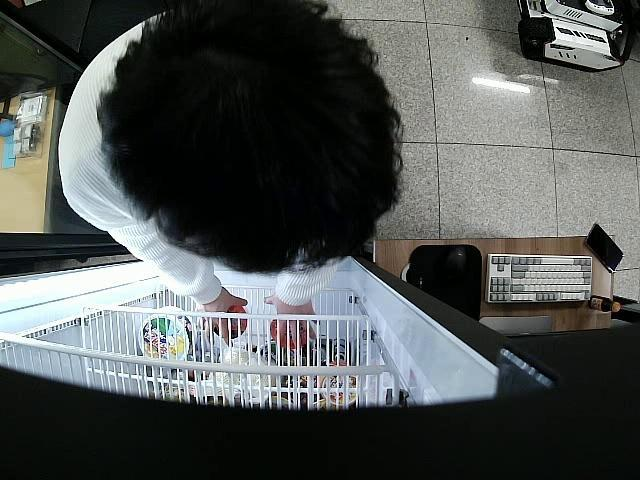02_shinRamen_S: (270, 316, 310, 352), (212, 305, 245, 336)
